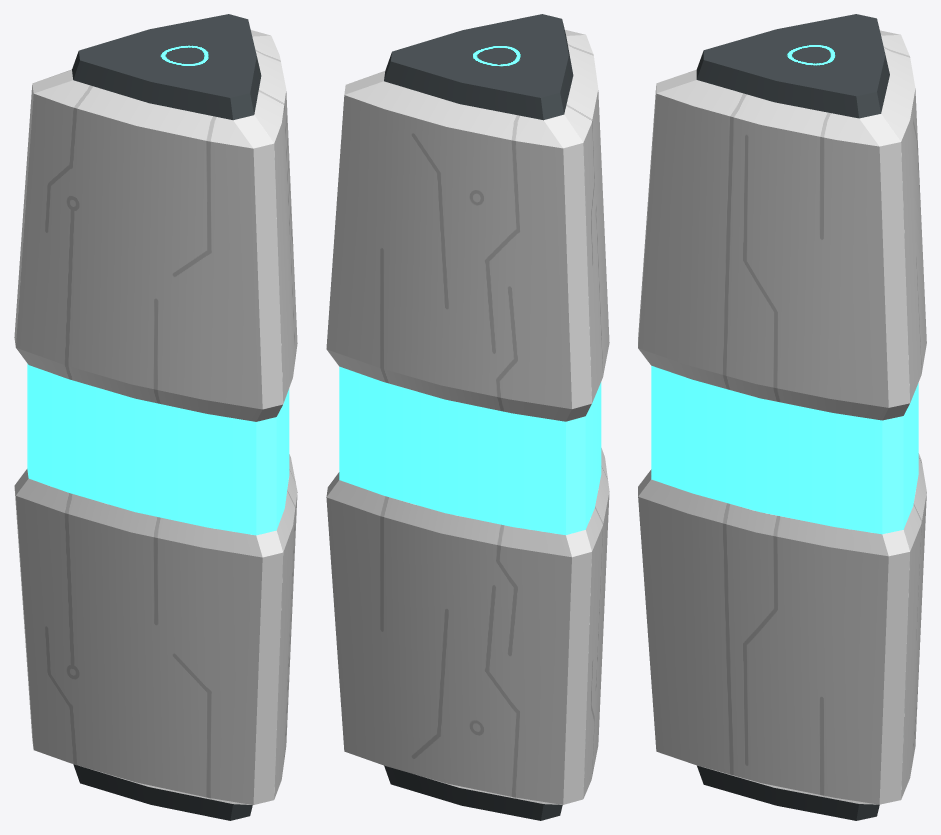
File: battery.fbx
3 renders of one model, left to right at view 1: azimuth 30°, elevation 25°; view 2: azimuth 150°, elevation 25°; view 3: azimuth 270°, elevation 25°, orthographic.
Parts seen in each view (by area): view 1: Cube; view 2: Cube; view 3: Cube.
Part boxes in pixels (<box>): Cube: <box>14,14,297,820</box>; Cube: <box>326,14,609,820</box>; Cube: <box>638,14,926,820</box>.
Bounding box in the file's own units: 167 × 436 × 158.
Materials: 1 (1 with a texture image).
